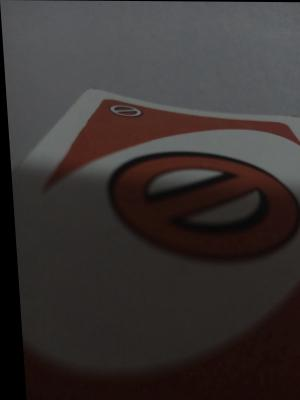skip: (93, 143, 300, 270), (102, 96, 147, 125)
